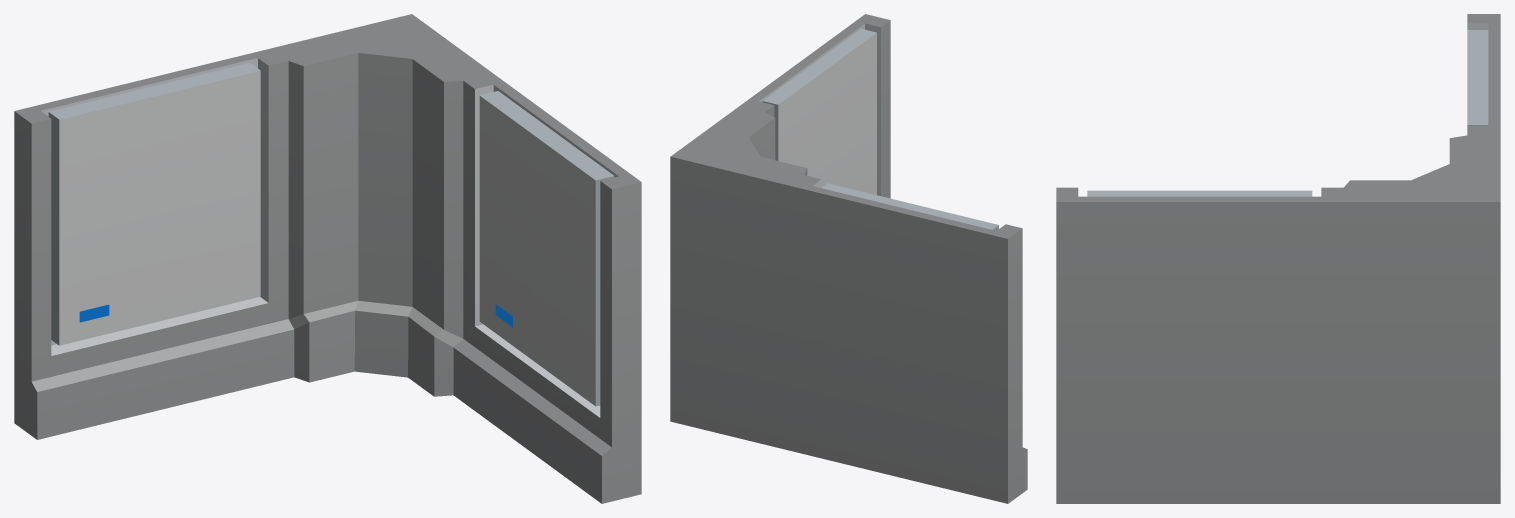
The model's file is Wall_type_A_037.glb.
3 renders of one model, left to right at view 1: azimuth 30°, elevation 25°; view 2: azimuth 150°, elevation 25°; view 3: azimuth 270°, elevation 25°, orthographic. The views are drawn at different scales.
Visible parts, largest first — view 1: Wall_type_A_037; view 2: Wall_type_A_037; view 3: Wall_type_A_037.
Boxes of the visible parts, <box> form: Wall_type_A_037: <box>14,14,641,503</box>; Wall_type_A_037: <box>670,14,1027,503</box>; Wall_type_A_037: <box>1056,14,1500,503</box>.
Size of the model in its own units: 2 by 1.5 by 2.
Materials: 2 (2 with a texture image).
